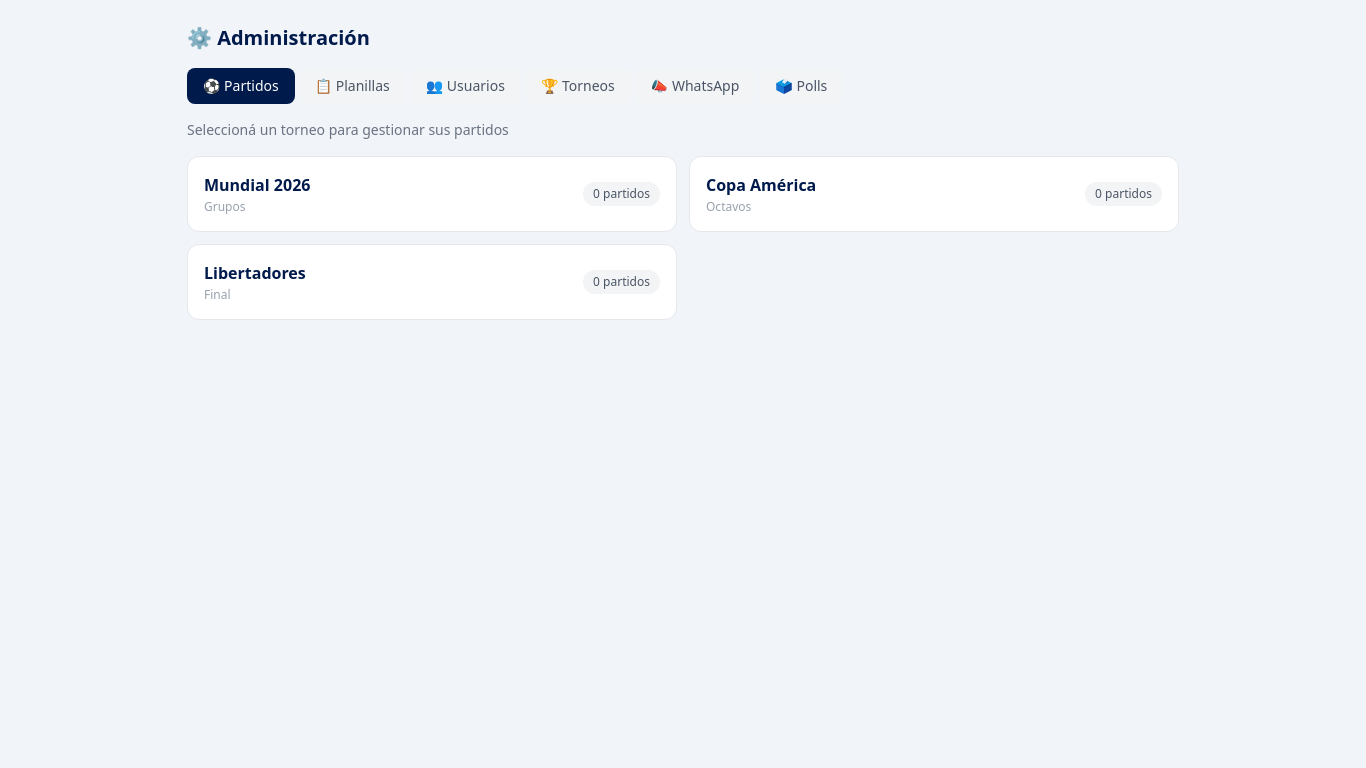
it: Admin — TorneosTab › renderiza la lista de torneos y barras de progreso
Click the button "🏆 Torneos" at [578, 86], box x1=525 y1=68 x2=631 y2=104
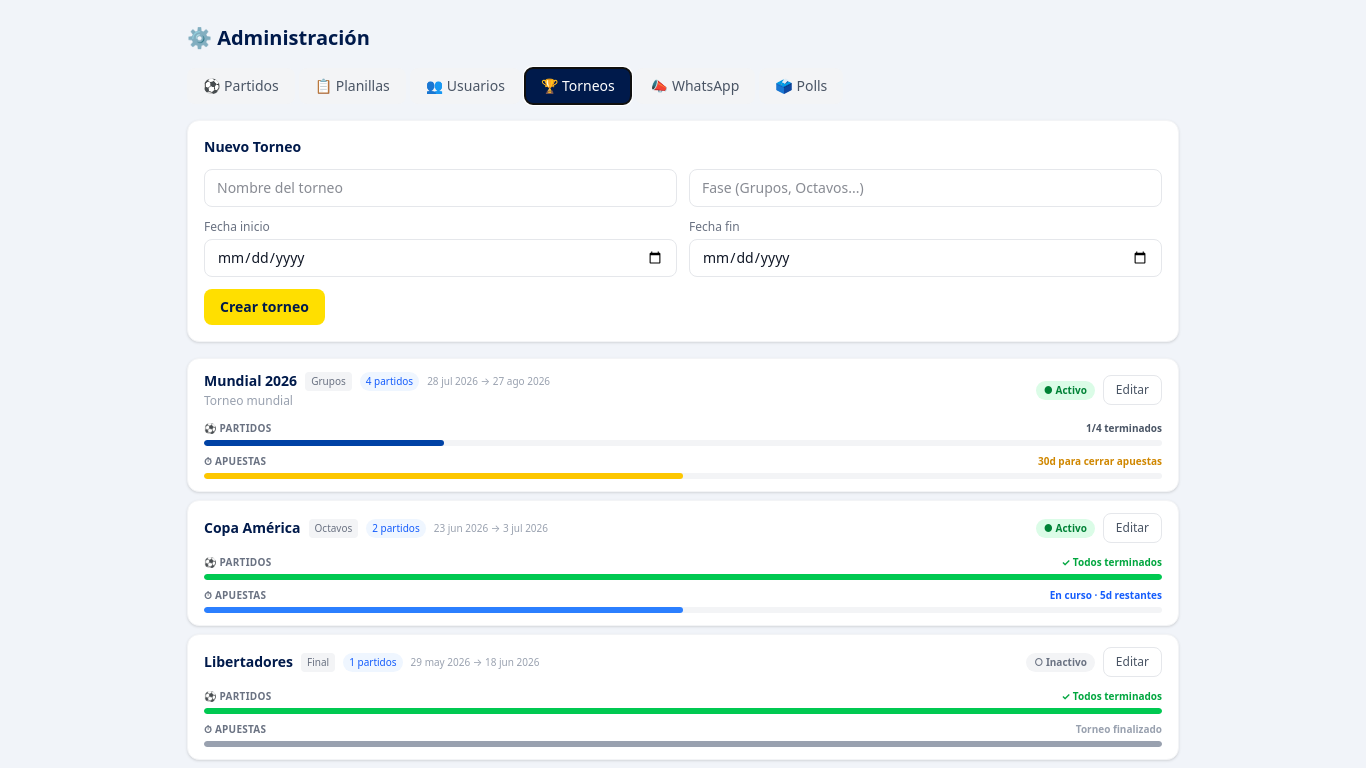
Result: the text "● Activo" is shown 2 times at x1=1036 y1=380 x2=1095 y2=400; x1=1036 y1=518 x2=1095 y2=538
Result: the text "○ Inactivo" is shown at x1=1026 y1=652 x2=1095 y2=672
Result: the text "Torneo finalizado" is shown at x1=1076 y1=722 x2=1162 y2=737
